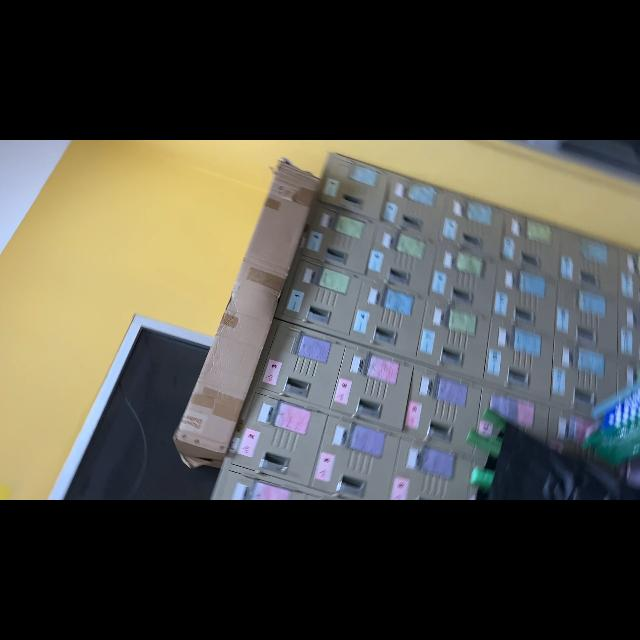cardboard_box: (170, 150, 326, 474)
